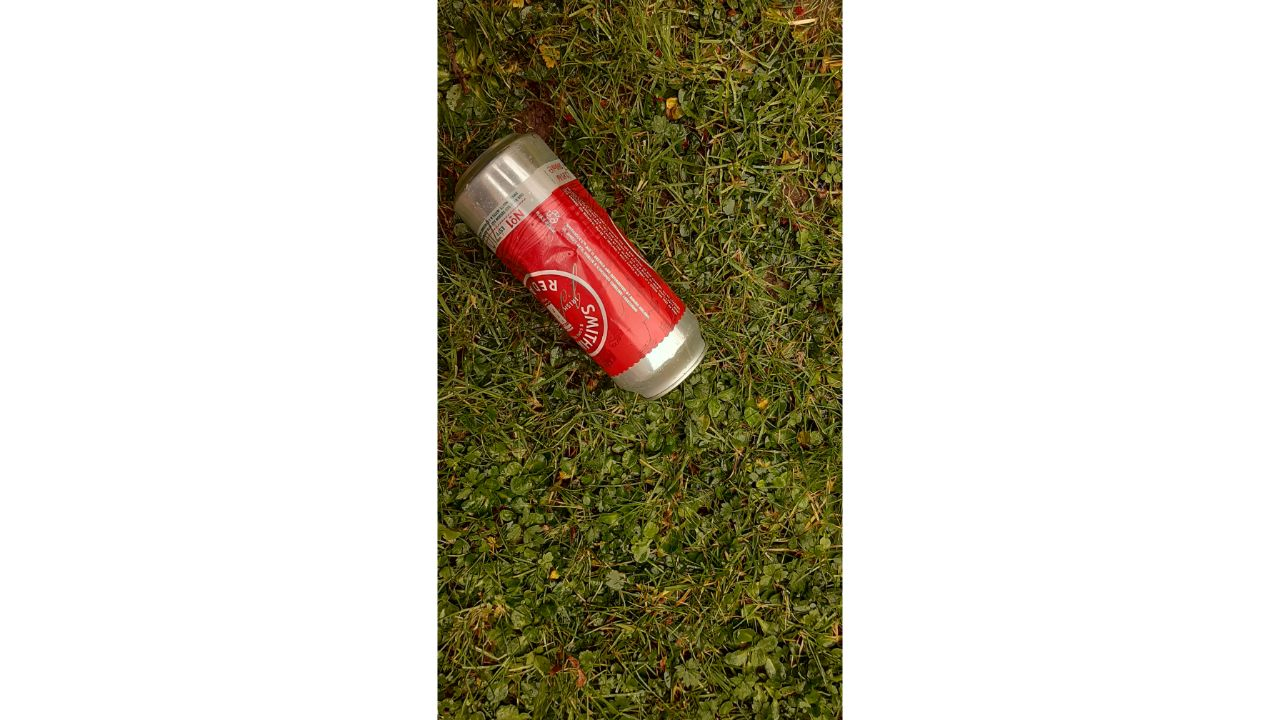Can: (447, 127, 708, 402)
